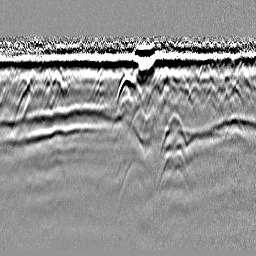cavity: (114, 71, 142, 110)
